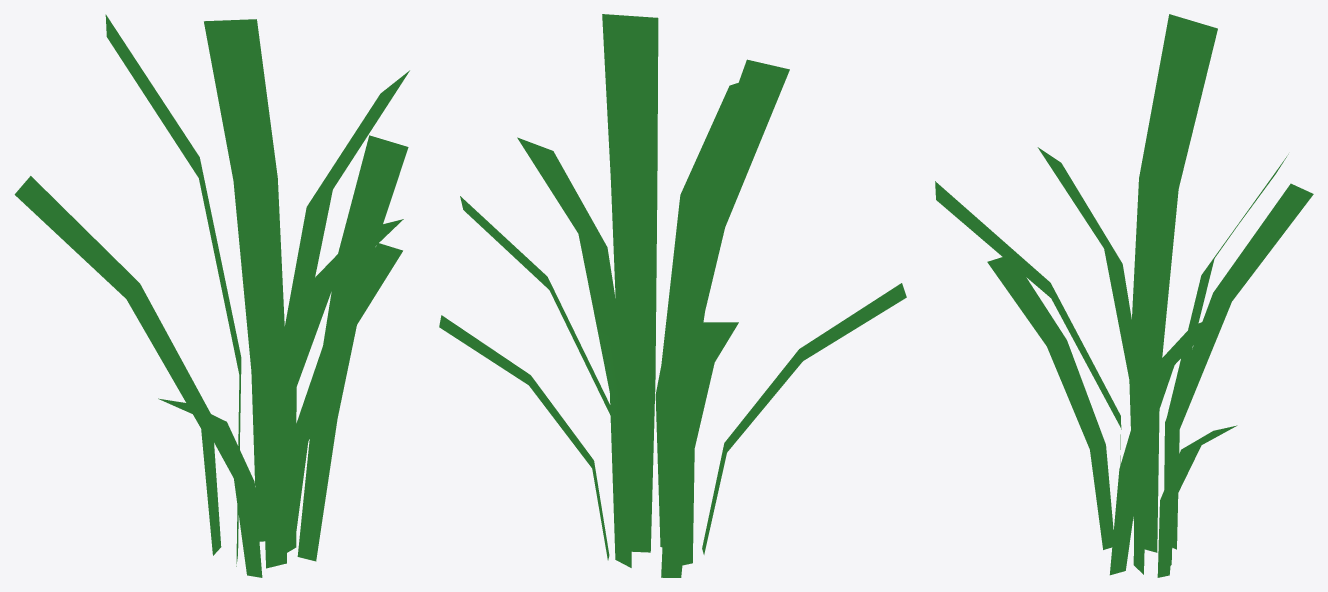
File: Grass_01.fbx
The picture shows the model from 3 angles, left to right: view 1: azimuth 30°, elevation 25°; view 2: azimuth 150°, elevation 25°; view 3: azimuth 270°, elevation 25°; orthographic projection. The views are drawn at different scales.
Parts seen in each view (by area): view 1: Grass_Strand_01.009; view 2: Grass_Strand_01.009; view 3: Grass_Strand_01.009.
Part boxes in pixels (x1,y1,x2,y2): Grass_Strand_01.009: (14, 14, 409, 577); Grass_Strand_01.009: (439, 14, 906, 577); Grass_Strand_01.009: (935, 14, 1313, 577).
Size of the model in its own units: 35.13 by 50.8 by 35.95.
